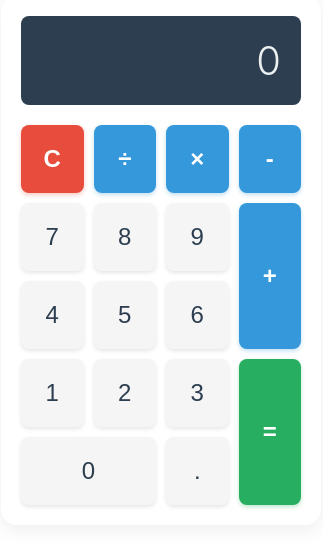
Test: Calculator Component › 数字ボタンをクリックすると表示に反映される
What coordinates should you click on to do the following:
click the button with test id "btn-1"
I would click on:
 (52, 393)
Its box is [21,359,84,427].
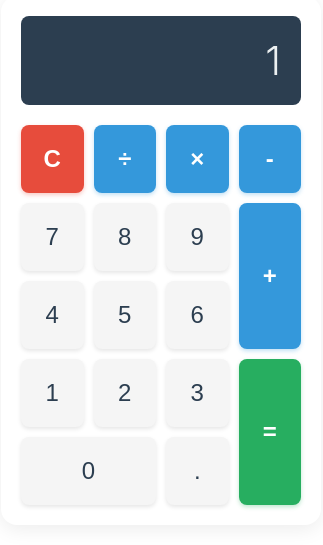
What coordinates should you click on to do the following:
click the button with test id "btn-2"
I would click on:
 (125, 393)
Its box is [94,359,156,427].
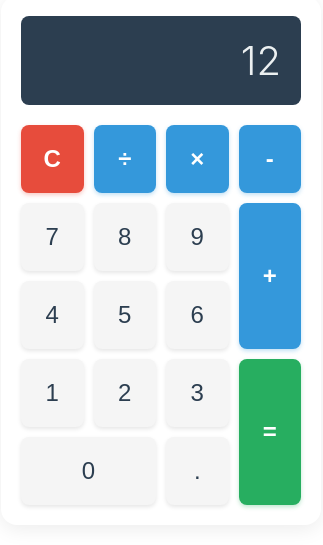
What coordinates should you click on to do the following:
click the button with test id "btn-3"
I would click on:
 (197, 393)
Its box is [166,359,228,427].
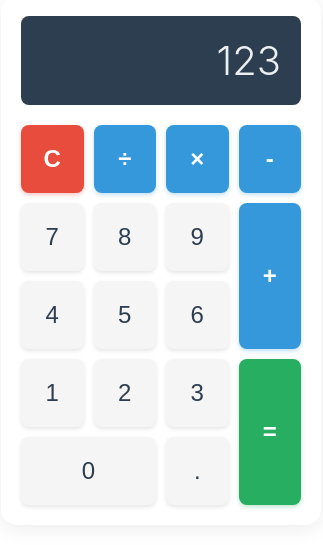
Expected: the text with test id "display" reads "123", [216,36,281,85]
